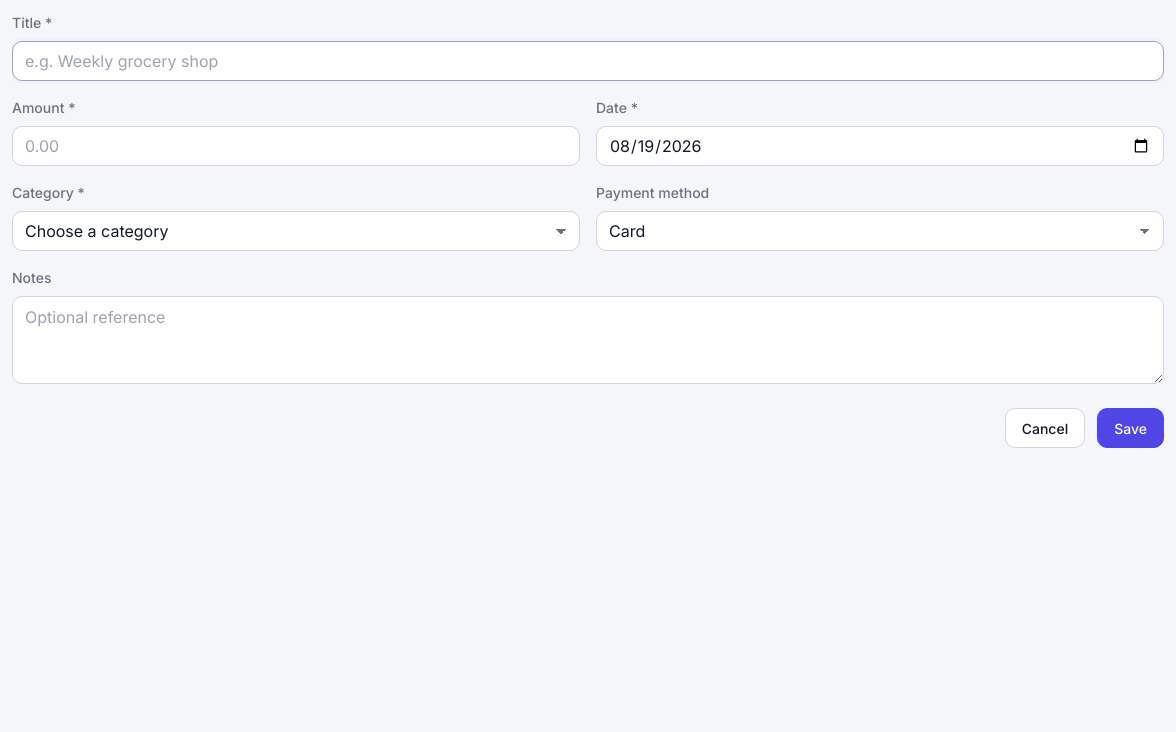
Scenario: TransactionForm › clears an error once the field is corrected
Click the button "Save": (1131, 428) [1097,408,1164,448]
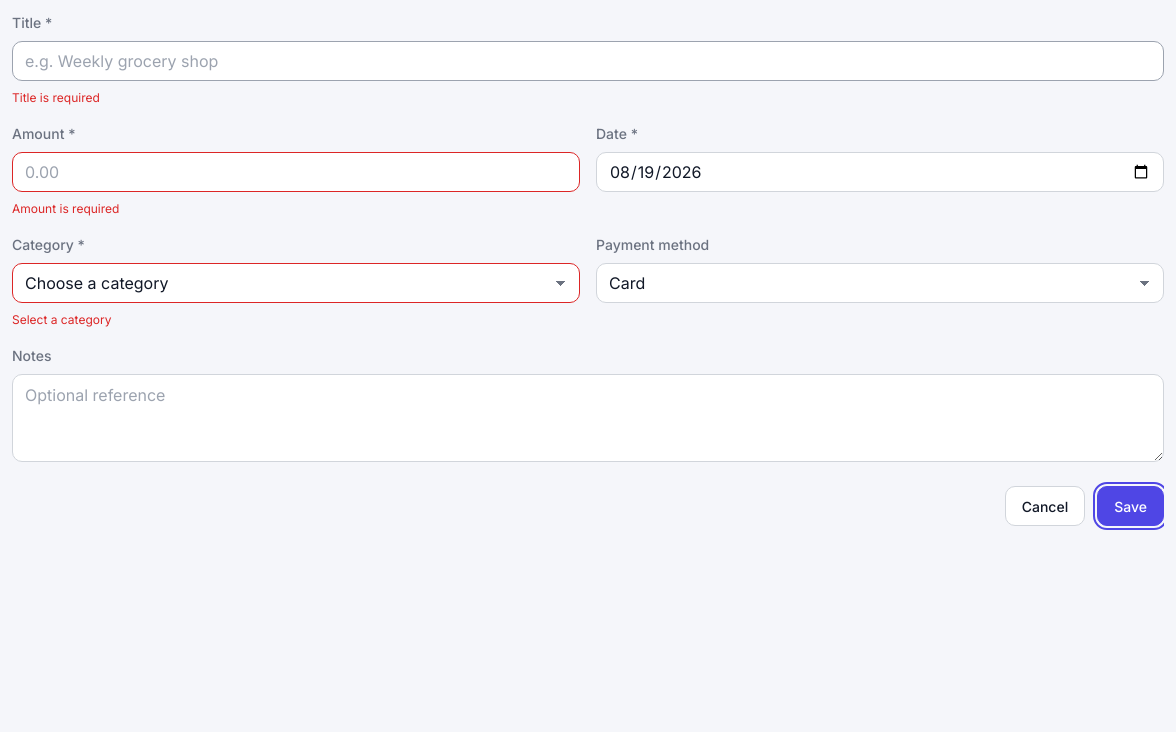
Result: the text "Title is required" is shown at [12,90,100,105]
In the field labelled "Title *": (588, 61) [12,41,1164,81], type "Coffee"
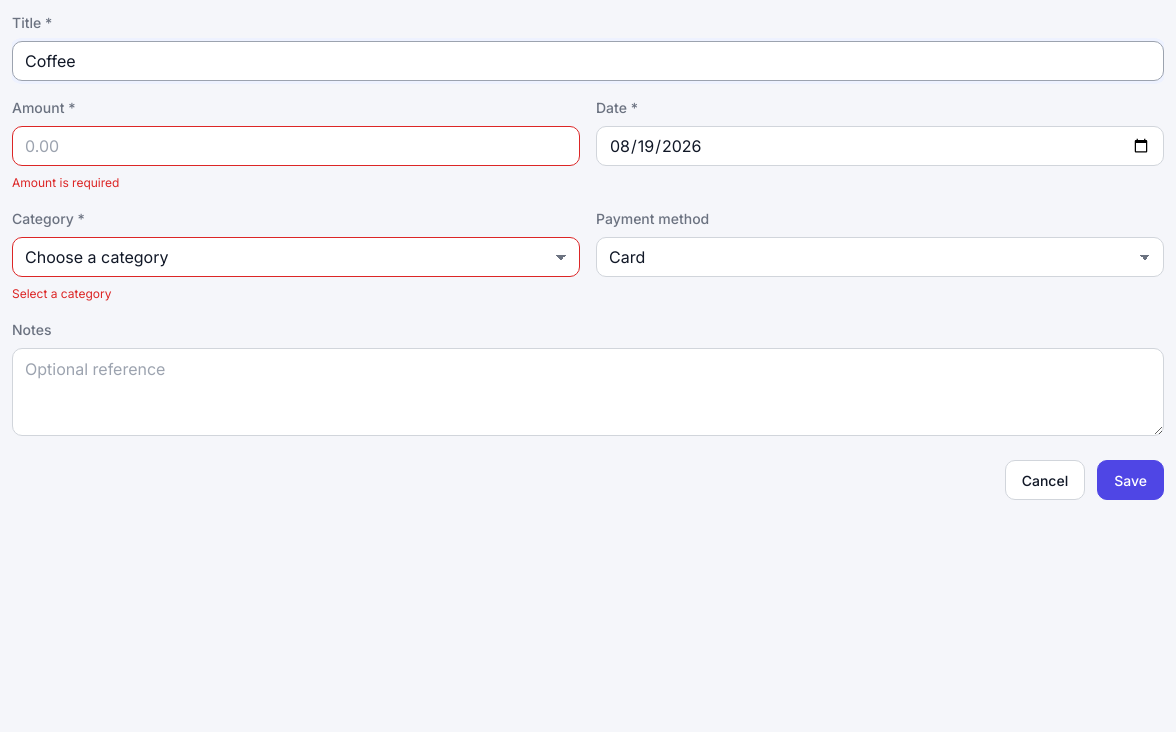
Result: the text "Title is required" is gone
